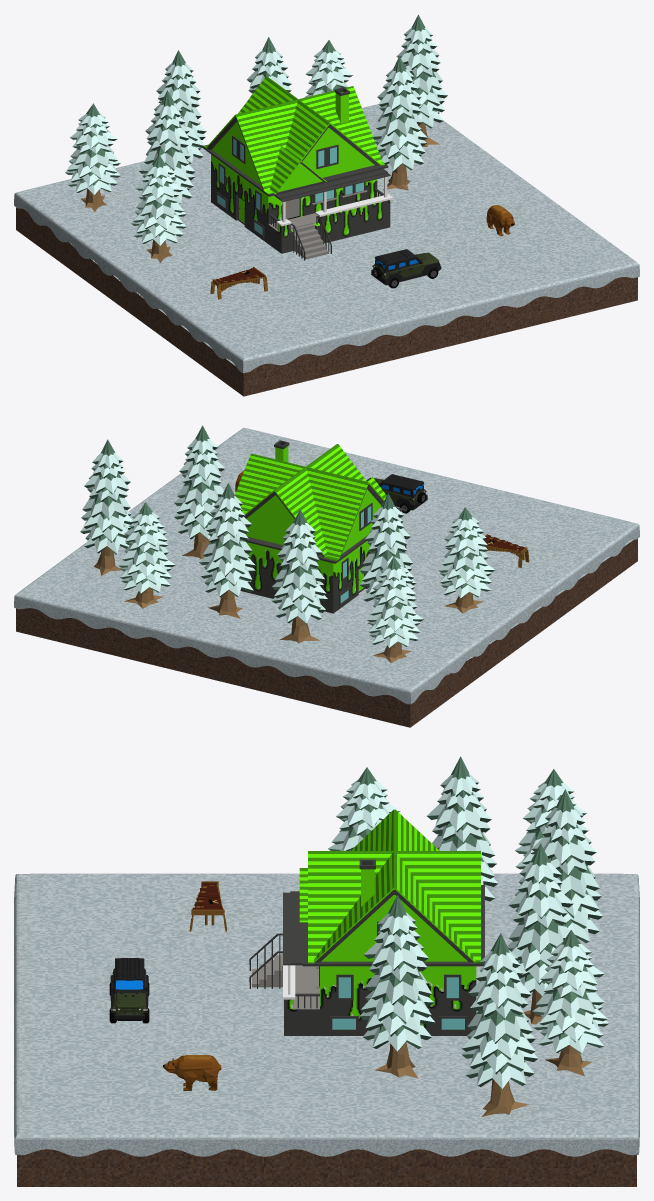
The picture shows the model from 3 angles, top to bottom: view 1: azimuth 30°, elevation 25°; view 2: azimuth 150°, elevation 25°; view 3: azimuth 270°, elevation 25°; orthographic projection. The views are drawn at different scales.
Parts seen in each view (by area): view 1: Cube.003, Cube.754, VEHICLES_JEEP, OBJRANDOM_MARIMBA, ANIMAL_OSO; view 2: Cube.003, Cube.754, VEHICLES_JEEP, OBJRANDOM_MARIMBA; view 3: Cube.003, Cube.754, VEHICLES_JEEP, ANIMAL_OSO, OBJRANDOM_MARIMBA.
Boxes of the visible parts, <box> form: Cube.003: <box>14,14,639,396</box>; Cube.754: <box>202,76,393,260</box>; VEHICLES_JEEP: <box>371,249,441,288</box>; OBJRANDOM_MARIMBA: <box>210,266,267,299</box>; ANIMAL_OSO: <box>486,204,514,236</box>; Cube.003: <box>14,425,639,727</box>; Cube.754: <box>235,440,406,613</box>; VEHICLES_JEEP: <box>366,474,427,513</box>; OBJRANDOM_MARIMBA: <box>484,534,529,567</box>; Cube.003: <box>14,756,639,1186</box>; Cube.754: <box>249,809,484,1035</box>; VEHICLES_JEEP: <box>109,958,149,1023</box>; ANIMAL_OSO: <box>163,1055,221,1090</box>; OBJRANDOM_MARIMBA: <box>189,881,226,931</box>.
Size of the model in its own units: 4040 by 1670 by 4040.
34 materials, 4 textured.
